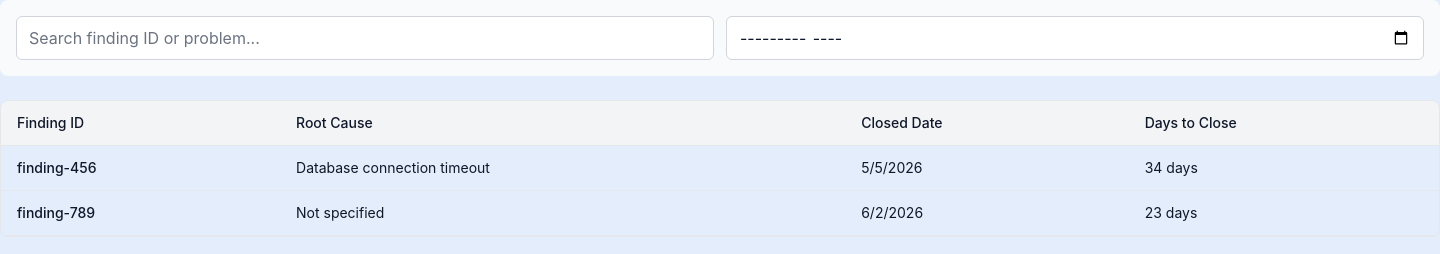
Scenario: CapaHistoryList › filters by search term (problem statement)
Type "Fixed issue" into the field with placeholder "Search finding ID or problem..." at (365, 38), box [16,16,714,60]
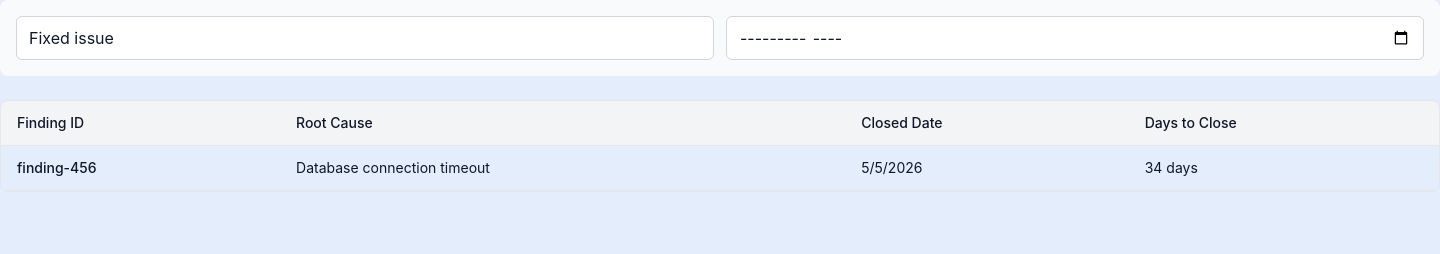
Check: the text "finding-456" is shown, box [1,146,280,190]
Check: the text "finding-789" is gone
